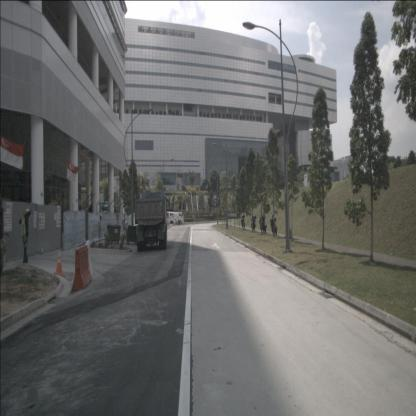movable_object-barrier: (72, 245, 92, 291), (83, 240, 94, 279)
movable_object-trafficcone: (53, 248, 64, 275)
vehicle-car: (167, 212, 184, 224), (162, 212, 177, 224)
vehicle-motorcycle: (269, 215, 278, 236), (259, 214, 267, 234), (250, 214, 257, 231), (240, 214, 245, 229)
vehicle-truck: (134, 190, 168, 252)
